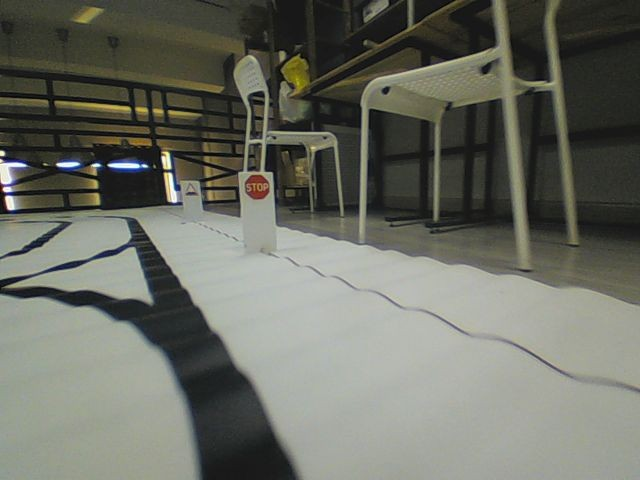Nerov: (183, 181, 198, 197)
Stop: (244, 174, 270, 200)
